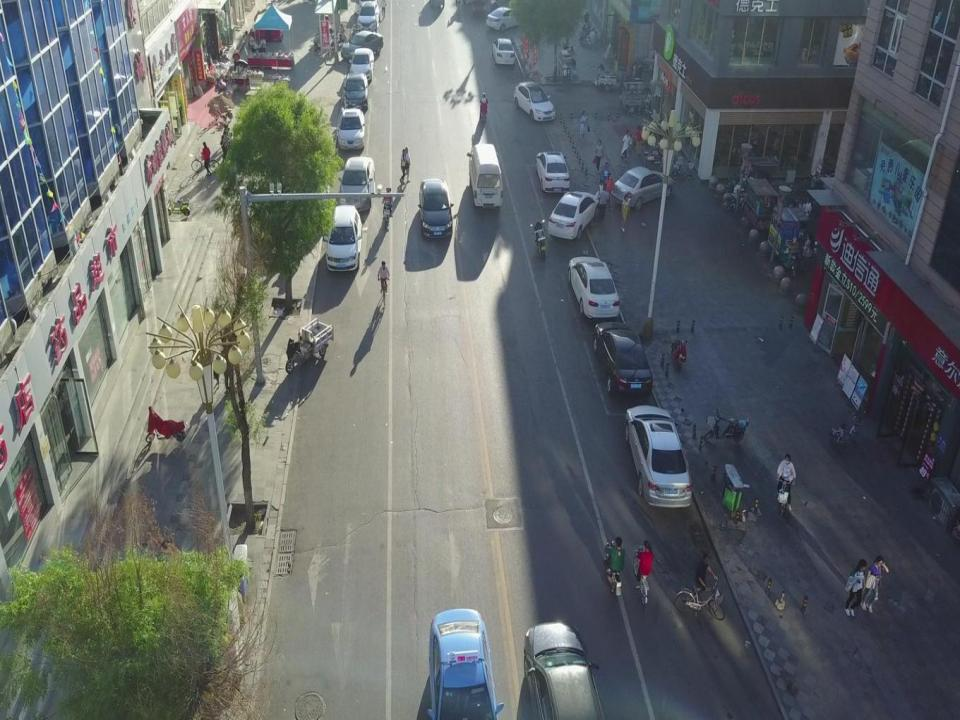car: (426, 607, 506, 720), (525, 619, 606, 720), (624, 404, 692, 508), (592, 321, 653, 398), (567, 256, 620, 318), (611, 166, 674, 210), (548, 189, 599, 239), (326, 203, 362, 271), (418, 178, 454, 239), (338, 155, 375, 212), (513, 81, 556, 122), (534, 151, 570, 191), (340, 30, 384, 61), (337, 107, 365, 149), (486, 7, 526, 31), (343, 74, 368, 110), (350, 47, 374, 83), (356, 1, 380, 30), (492, 38, 515, 66)
van: (466, 144, 502, 209)
